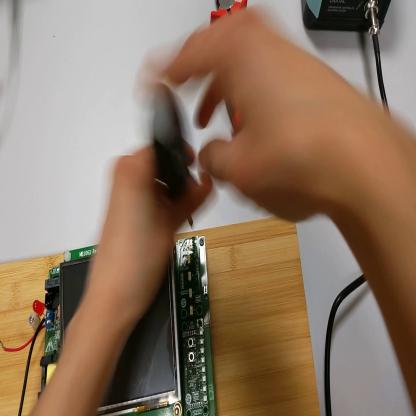hand: (144, 10, 345, 221), (94, 98, 216, 313)
low voltage board: (1, 235, 217, 416)
pliers: (211, 3, 245, 136)
screwdriver-: (152, 75, 197, 234)
welder station: (302, 2, 390, 34)
working area: (2, 220, 321, 416)
